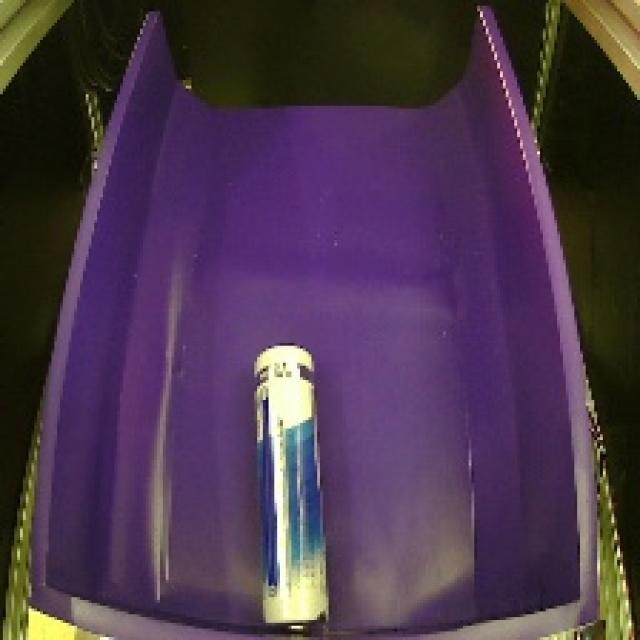battery: (237, 338, 337, 636)
